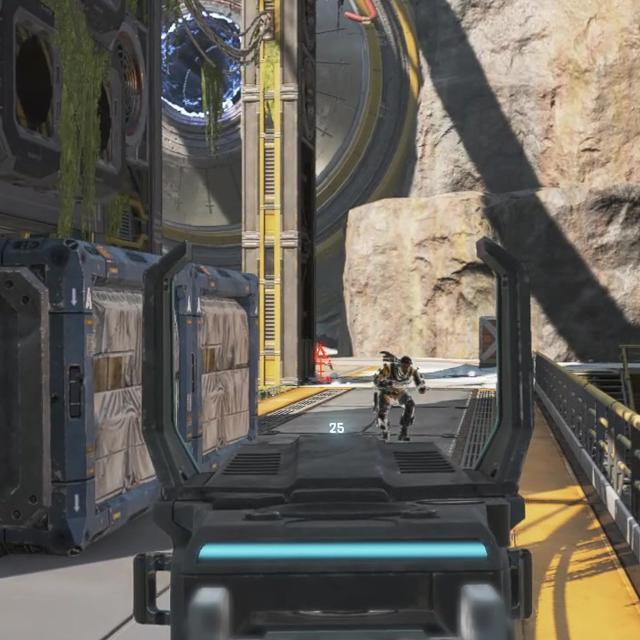avatar: (375, 353, 417, 441)
